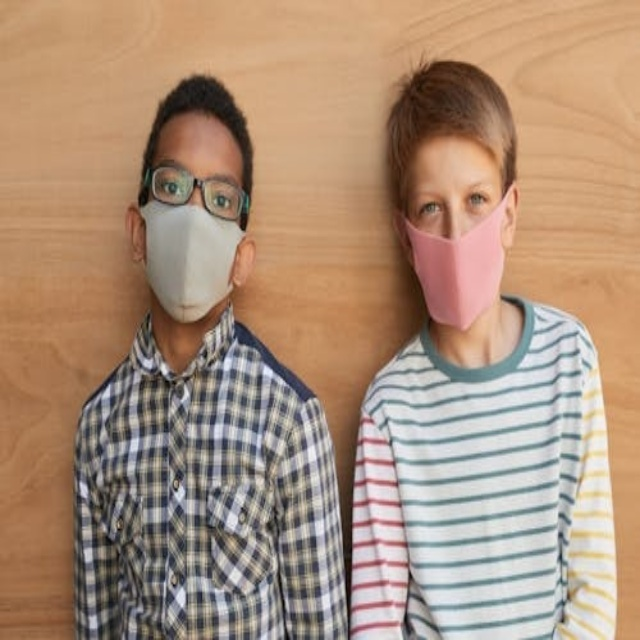Gafas: (140, 163, 251, 225)
Mascara: (398, 189, 511, 330), (139, 183, 245, 321)
Sin_gafas: (403, 173, 506, 229)
